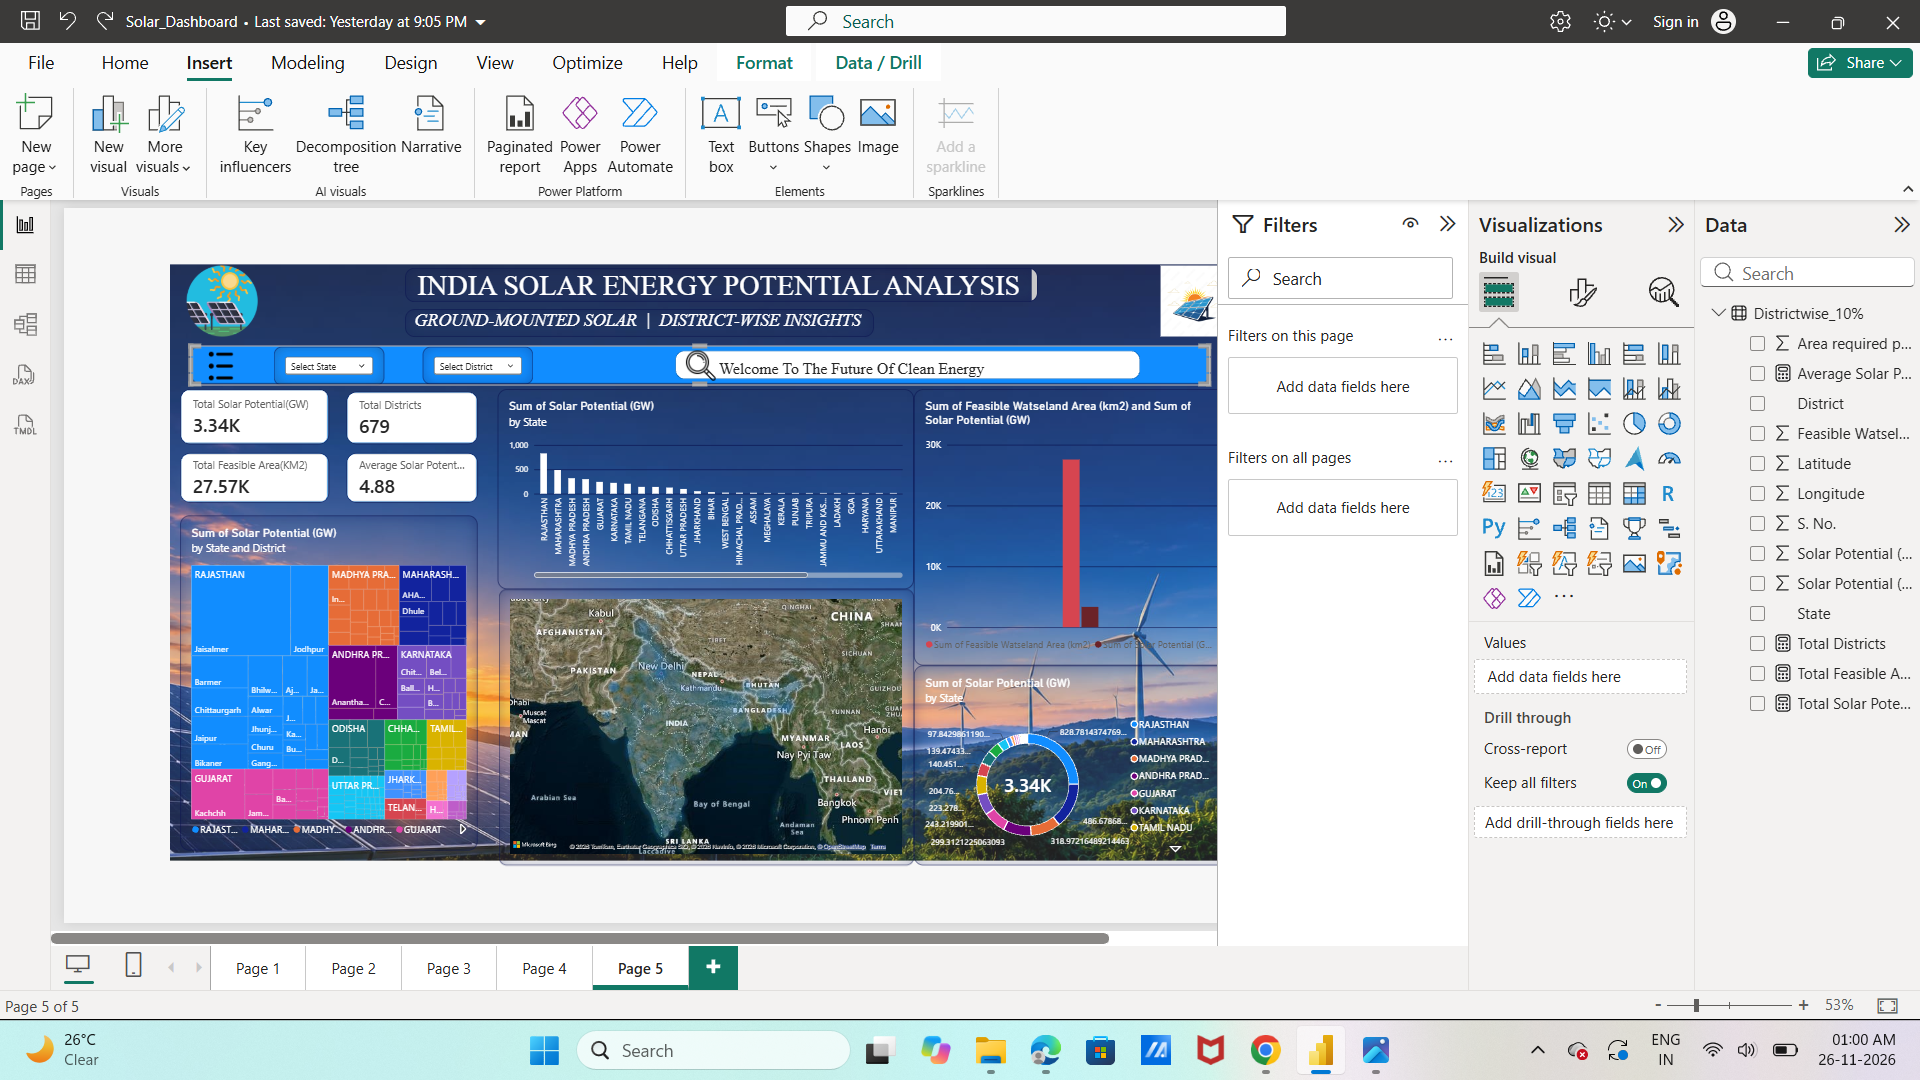

The page's visual inventory and layout, read from the dashboard file:
{"tool":"powerbi","page":{"name":"Page 5","canvas":[1920,1080],"ordinal":4},"visuals":[{"type":"textbox","box":[515.1,90.6,954.7,50.9],"z":0},{"type":"shape","box":[190.6,207.5,1539.6,58.5],"z":0,"group":"g1"},{"type":"textbox","box":[515.1,152.8,707.5,41.5],"z":1000},{"type":"listSlicer","fields":{"Values":["Districtwise_10%.State"]},"box":[317,209.4,166,58.5],"z":1000,"group":"g1"},{"type":"image","box":[1600,87.5,214.3,107.1],"z":2000},{"type":"listSlicer","fields":{"Values":["Districtwise_10%.District"]},"box":[541.5,209.4,166,56.6],"z":2000,"group":"g1"},{"type":"group","id":"g1","title":"Group 1","box":[190.6,207.5,1539.6,60.4],"z":3000},{"type":"image","box":[207.6,216.9,58.5,43.4],"z":3000,"group":"g1"},{"type":"shape","box":[922.7,215,701.9,43.4],"z":4000,"group":"g1"},{"type":"map","fields":{"Size":["Sum(Districtwise_10%.Solar Potential (GW))"],"X":["Districtwise_10%.Longitude"],"Y":["Districtwise_10%.Latitude"]},"box":[656.6,575.5,626.4,417],"z":4000},{"type":"image","box":[934,215,54.7,45.3],"z":5000,"group":"g1"},{"type":"columnChart","fields":{"Category":["Districtwise_10%.State"],"Y":["Sum(Districtwise_10%.Solar Potential (GW))"]},"box":[654.7,273.6,628.3,301.9],"z":5000},{"type":"textbox","box":[988.7,228.3,409.4,32.1],"z":6000,"group":"g1"},{"type":"donutChart","fields":{"Category":["Districtwise_10%.State"],"Y":["Sum(Districtwise_10%.Solar Potential (GW))"]},"box":[1283,690.6,477.4,301.9],"z":6000},{"type":"clusteredColumnChart","fields":{"Y":["Sum(Districtwise_10%.Feasible Watseland Area (km2))","Sum(Districtwise_10%.Solar Potential (GW))"]},"box":[1283,273.6,477.4,417],"z":7000},{"type":"cardVisual","fields":{"Data":["Districtwise_10%.Total Solar Potential(GW)"]},"box":[175.5,273.6,224.5,83],"z":8000},{"type":"cardVisual","fields":{"Data":["Districtwise_10%.Total Districts"]},"box":[426.4,277.4,198.1,79.2],"z":9000},{"type":"cardVisual","fields":{"Data":["Districtwise_10%.Total Feasible Area(KM2)"]},"box":[175.5,369.8,224.5,75.5],"z":10000},{"type":"cardVisual","fields":{"Data":["Districtwise_10%.Average Solar Potential(GW)"]},"box":[426.4,369.8,198.1,75.5],"z":11000},{"type":"treemap","fields":{"Details":["Districtwise_10%.District"],"Group":["Districtwise_10%.State"],"Values":["Sum(Districtwise_10%.Solar Potential (GW))"]},"box":[175.5,464.2,449.1,505.7],"z":12000},{"type":"image","box":[160.4,86.8,156.6,107.5],"z":13000}]}

Visuals, with their boxes on the page's 1920x1080 design canvas (x1, y1, x2, y2). These are canvas units, not pixel positions in the 1920x1080 screenshot, which may show the page scaled, cropped or inside an application window:
textbox: (515, 91, 1470, 142)
shape: (191, 208, 1730, 266)
textbox: (515, 153, 1223, 194)
listSlicer - Districtwise_10%.State: (317, 209, 483, 268)
image: (1600, 88, 1814, 195)
listSlicer - Districtwise_10%.District: (542, 209, 708, 266)
"Group 1" group: (191, 208, 1730, 268)
image: (208, 217, 266, 260)
shape: (923, 215, 1625, 258)
map - Sum(Districtwise_10%.Solar Potential (GW)) x Districtwise_10%.Longitude: (657, 576, 1283, 992)
image: (934, 215, 989, 260)
columnChart - Districtwise_10%.State x Sum(Districtwise_10%.Solar Potential (GW)): (655, 274, 1283, 576)
textbox: (989, 228, 1398, 260)
donutChart - Districtwise_10%.State x Sum(Districtwise_10%.Solar Potential (GW)): (1283, 691, 1760, 992)
clusteredColumnChart - Sum(Districtwise_10%.Feasible Watseland Area (km2)) x Sum(Districtwise_10%.Solar Potential (GW)): (1283, 274, 1760, 691)
cardVisual - Districtwise_10%.Total Solar Potential(GW): (176, 274, 400, 357)
cardVisual - Districtwise_10%.Total Districts: (426, 277, 624, 357)
cardVisual - Districtwise_10%.Total Feasible Area(KM2): (176, 370, 400, 445)
cardVisual - Districtwise_10%.Average Solar Potential(GW): (426, 370, 624, 445)
treemap - Districtwise_10%.District x Districtwise_10%.State: (176, 464, 625, 970)
image: (160, 87, 317, 194)
